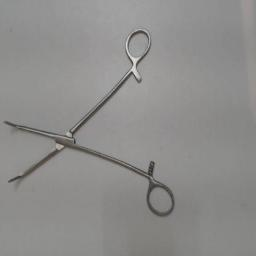Lahey Forceps: (1, 24, 177, 220)
